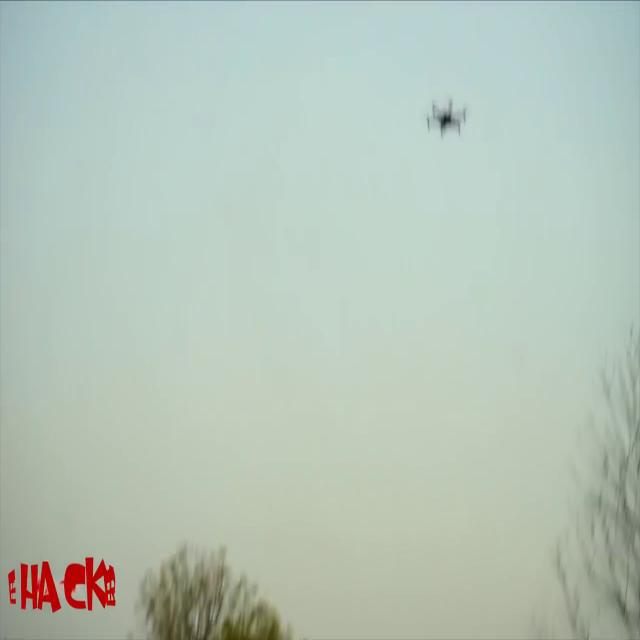drone: (416, 90, 479, 148)
